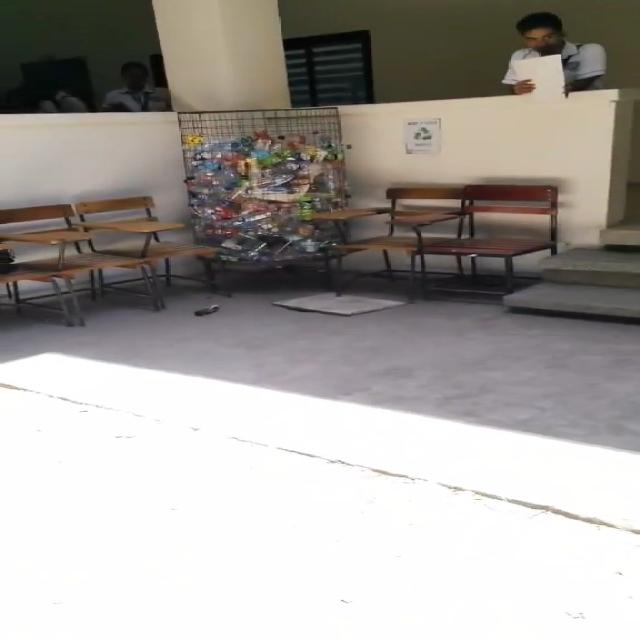Bottle: (193, 302, 220, 317)
